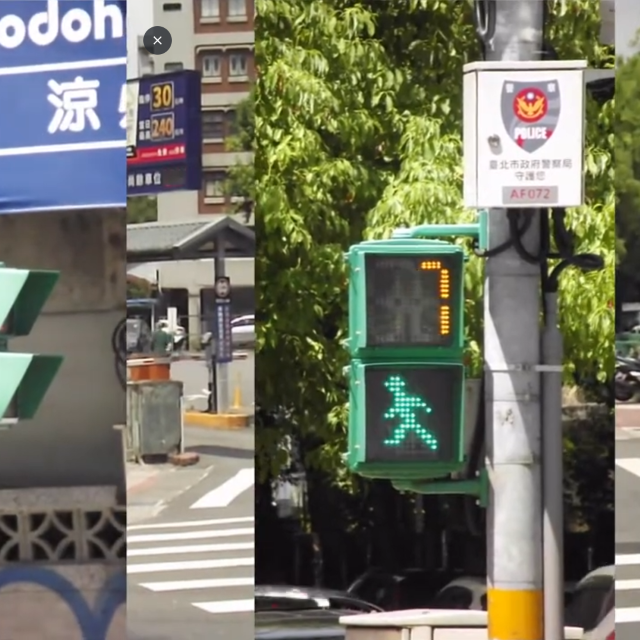green_light: (352, 245, 467, 471)
